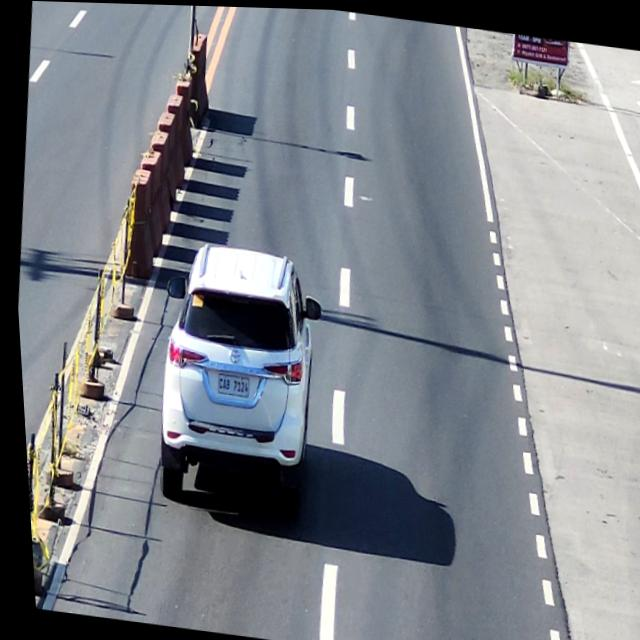Car: (138, 232, 327, 508)
License-Plate: (209, 370, 247, 398)
